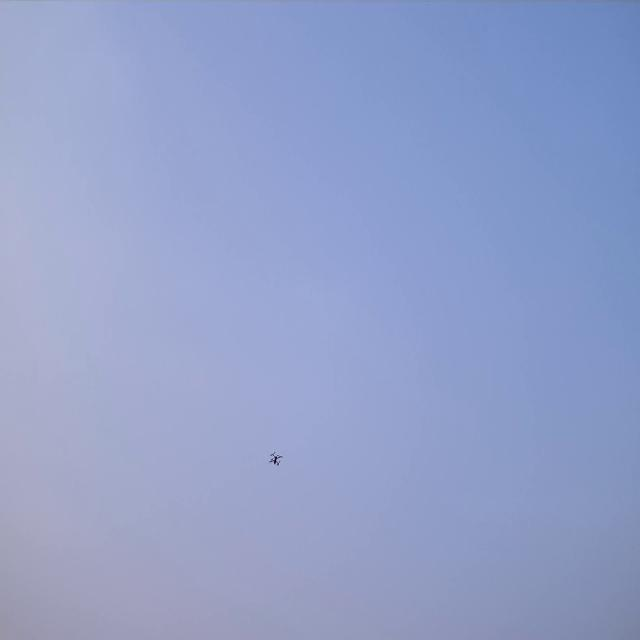UAV: (268, 451, 283, 466)
